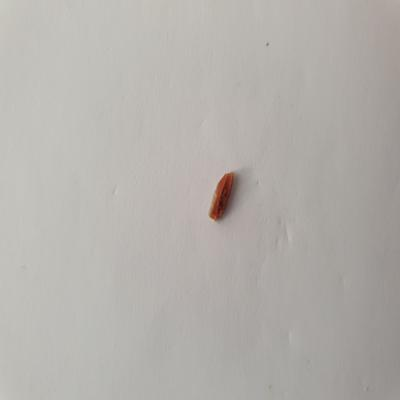plastic: (205, 170, 236, 226)
